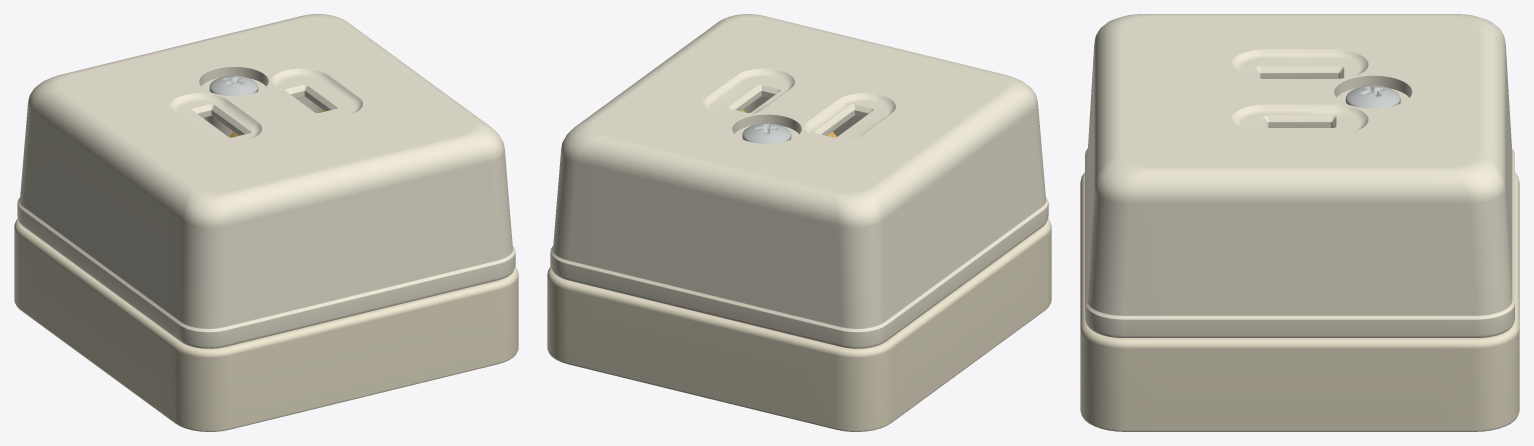
The model's file is outlet_exposed.glb.
The picture shows the model from 3 angles, left to right: view 1: azimuth 30°, elevation 25°; view 2: azimuth 150°, elevation 25°; view 3: azimuth 270°, elevation 25°; orthographic projection. The views are drawn at different scales.
Parts seen in each view (by area): view 1: CoverShell, BaseShell; view 2: CoverShell, BaseShell; view 3: CoverShell, BaseShell.
Boxes of the visible parts, x1=… form: CoverShell: x1=17, y1=14, x2=515, y2=348; BaseShell: x1=14, y1=219, x2=518, y2=431; CoverShell: x1=550, y1=14, x2=1048, y2=348; BaseShell: x1=547, y1=219, x2=1051, y2=431; CoverShell: x1=1085, y1=14, x2=1514, y2=337; BaseShell: x1=1080, y1=172, x2=1519, y2=431.
Bounding box in the file's own units: 0.048 × 0.0302 × 0.048.
